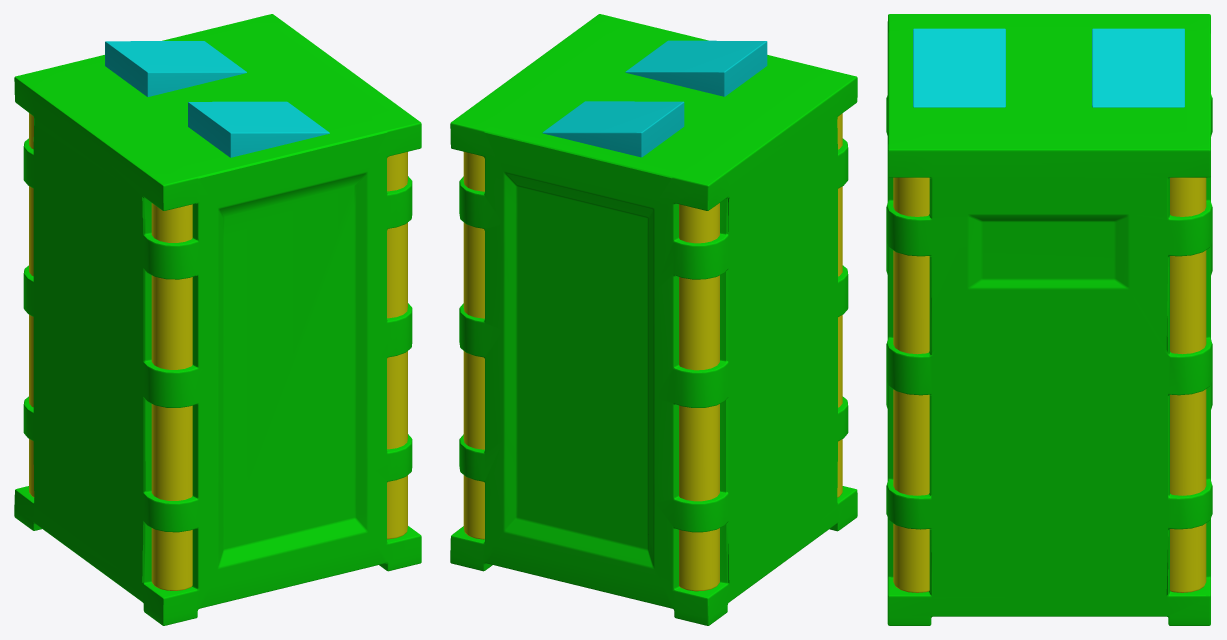
Rendered from Safe.fbx.
3 renders of one model, left to right at view 1: azimuth 30°, elevation 25°; view 2: azimuth 150°, elevation 25°; view 3: azimuth 270°, elevation 25°, orthographic. The views are drawn at different scales.
Parts seen in each view (by area): view 1: Safe; view 2: Safe; view 3: Safe.
Boxes of the visible parts, x1,y1,x2,y2 form: Safe: [14, 14, 421, 625]; Safe: [450, 14, 857, 625]; Safe: [886, 14, 1212, 625].
Bounding box in the file's own units: 71.68 × 122 × 71.74.
